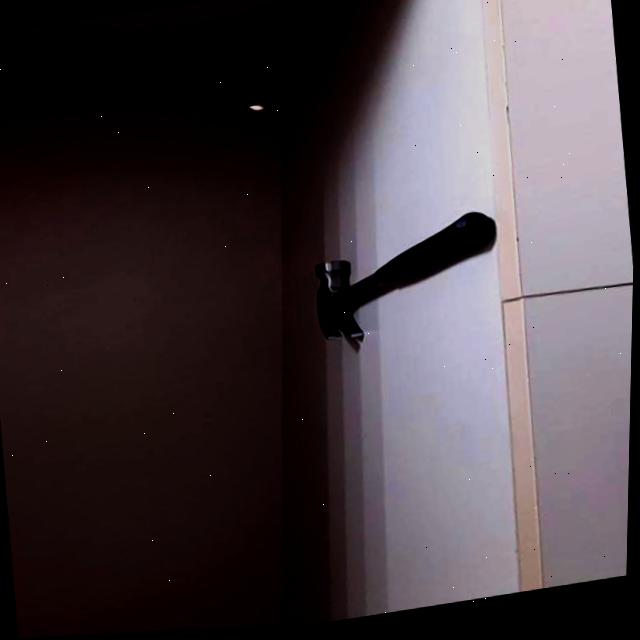hammer: (305, 214, 498, 343)
